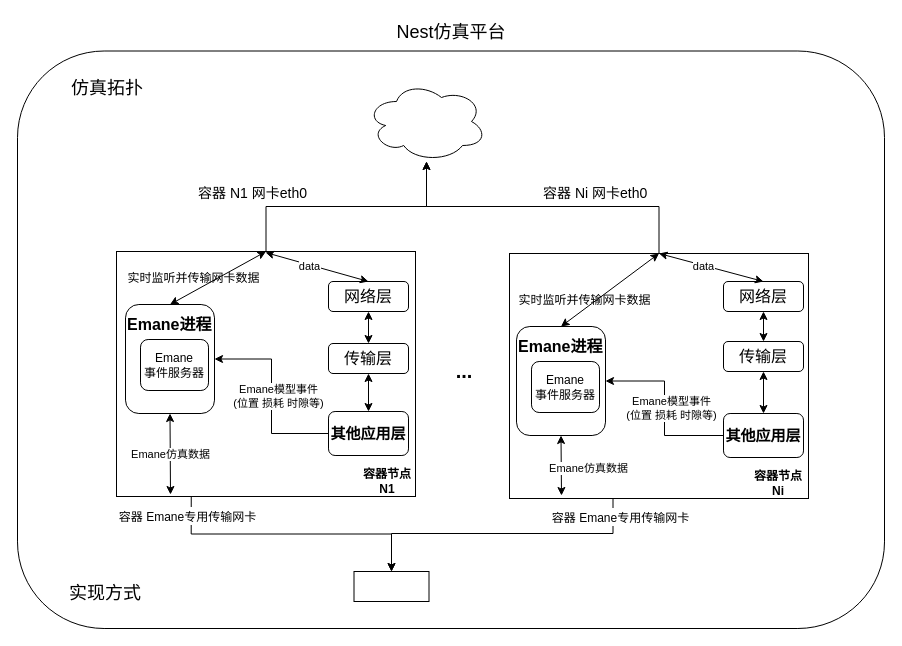
This 902x646 diagram has some shape labels left out. Here are the shapes that lost their labels. From the top down, the centre of each, then its label:
At pixel 426 121: "某自组网".
At pixel 391 586: "网桥".
